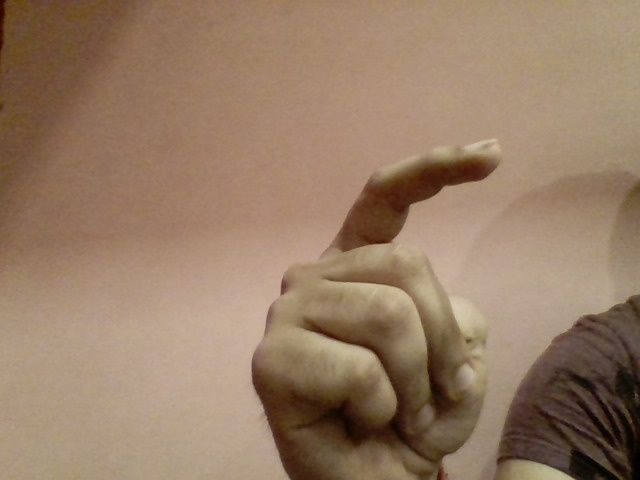x: (238, 130, 517, 480)
